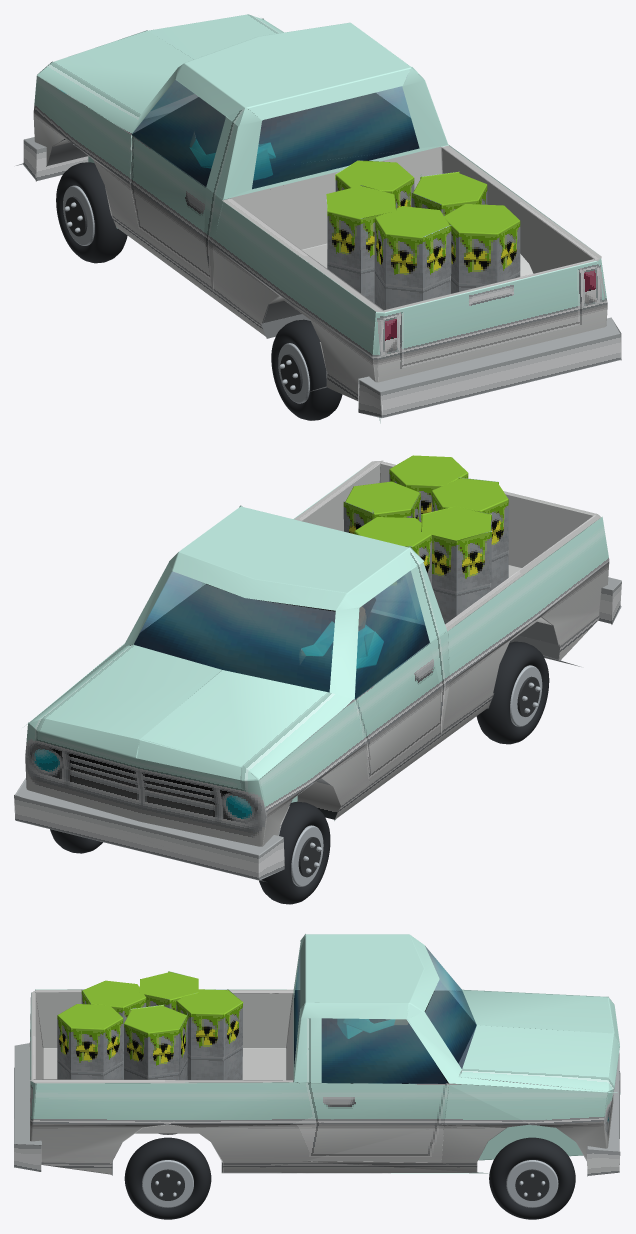
File: car-nuctruck.glb
3 views of the same model, one above another, from view 1: azimuth 30°, elevation 25°; view 2: azimuth 150°, elevation 25°; view 3: azimuth 270°, elevation 25° (orthographic). The views are drawn at different scales.
Visible parts, largest first — view 1: nuctruckShape.001, windShape.002, nuctruckShape, Rounded tire.017, Rounded tire.018, Alloy rim.018, Alloy rim.017, Rim recess.034, Rim recess.036; view 2: nuctruckShape.001, windShape.002, nuctruckShape, Rounded tire.018, Rounded tire.017, Alloy rim.017, Alloy rim.018, Rounded tire.016, Rim recess.034, Rim recess.036; view 3: nuctruckShape.001, windShape.002, nuctruckShape, Rounded tire.019, Rounded tire.016, Alloy rim.016, Alloy rim.019, Rim recess.033, Rim recess.039.
Part boxes in pixels (bbox=[...]): nuctruckShape.001: bbox=[16, 14, 621, 423]; windShape.002: bbox=[131, 77, 419, 188]; nuctruckShape: bbox=[132, 93, 418, 188]; Rounded tire.017: bbox=[56, 162, 127, 263]; Rounded tire.018: bbox=[271, 319, 342, 420]; Alloy rim.018: bbox=[278, 343, 309, 403]; Alloy rim.017: bbox=[63, 185, 94, 245]; Rim recess.034: bbox=[65, 196, 87, 236]; Rim recess.036: bbox=[280, 354, 302, 393]; nuctruckShape.001: bbox=[14, 455, 621, 881]; windShape.002: bbox=[134, 570, 429, 699]; nuctruckShape: bbox=[130, 584, 429, 698]; Rounded tire.018: bbox=[476, 641, 549, 744]; Rounded tire.017: bbox=[259, 801, 330, 904]; Alloy rim.017: bbox=[291, 825, 323, 886]; Alloy rim.018: bbox=[510, 665, 542, 726]; Rounded tire.016: bbox=[50, 829, 102, 853]; Rim recess.034: bbox=[298, 837, 320, 877]; Rim recess.036: bbox=[517, 676, 539, 716]; nuctruckShape.001: bbox=[14, 934, 620, 1176]; windShape.002: bbox=[294, 946, 476, 1083]; nuctruckShape: bbox=[294, 990, 476, 1083]; Rounded tire.019: bbox=[124, 1137, 211, 1219]; Rounded tire.016: bbox=[489, 1137, 575, 1219]; Alloy rim.016: bbox=[506, 1160, 558, 1207]; Alloy rim.019: bbox=[142, 1160, 193, 1207]; Rim recess.033: bbox=[515, 1169, 549, 1200]; Rim recess.039: bbox=[151, 1169, 184, 1200].
Size of the model in its own units: 2.53 by 2.12 by 5.61.
6 materials, 3 textured.
